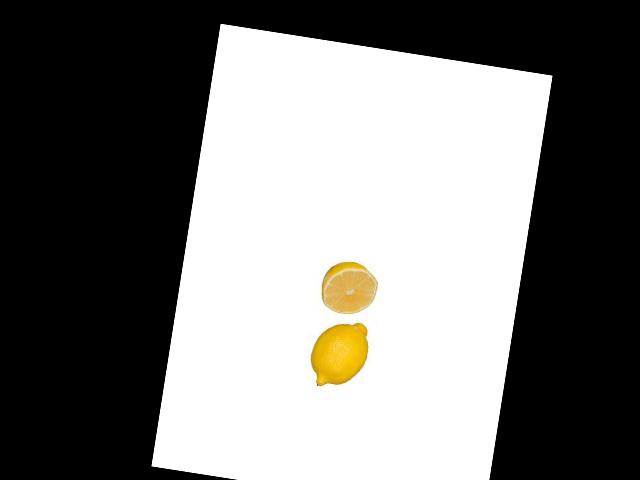lemon: (306, 311, 374, 395)
